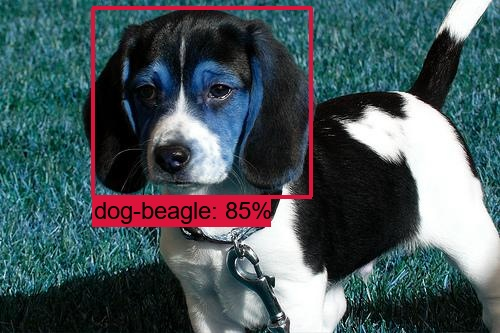dog-beagle: (82, 8, 316, 192)
